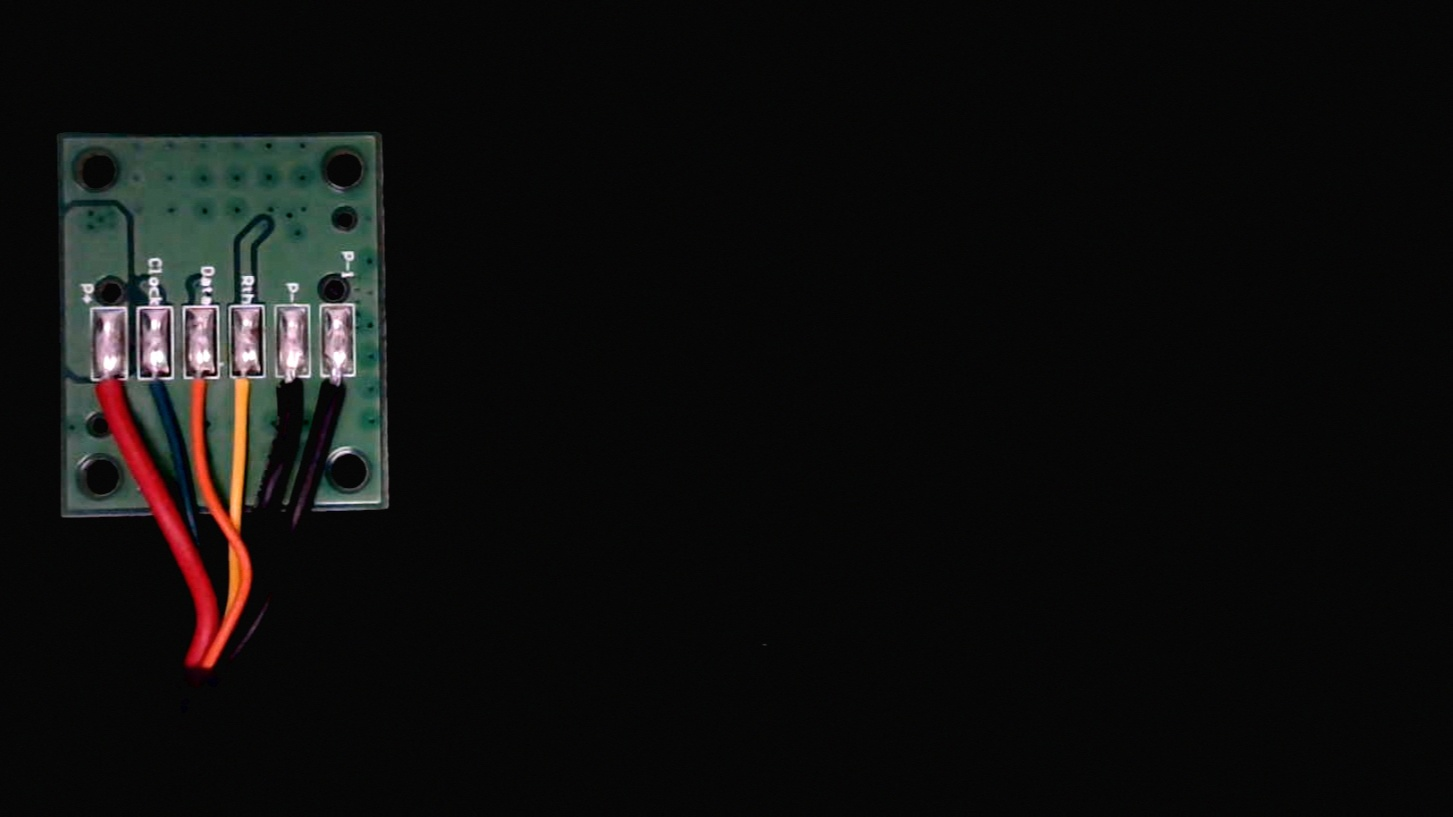Black: (273, 361, 309, 434)
Black1: (320, 361, 359, 439)
Green: (131, 359, 172, 439)
Orange: (180, 360, 217, 443)
Red: (88, 359, 128, 439)
Yellow: (226, 359, 267, 444)
